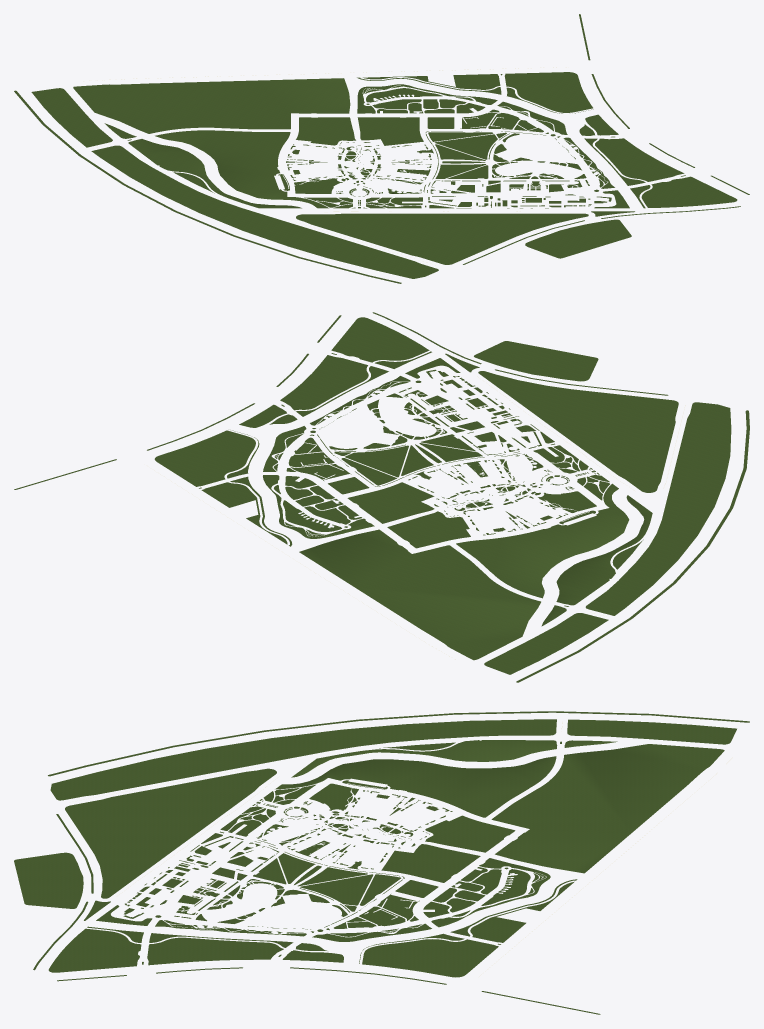
The picture shows the model from 3 angles, top to bottom: view 1: azimuth 30°, elevation 25°; view 2: azimuth 150°, elevation 25°; view 3: azimuth 270°, elevation 25°; orthographic projection. The views are drawn at different scales.
Parts seen in each view (by area): view 1: 171; view 2: 171; view 3: 171.
Boxes of the visible parts, bbox=[...] form: 171: bbox=[14, 14, 749, 283]; 171: bbox=[14, 312, 749, 682]; 171: bbox=[14, 711, 749, 1014].
Bounding box in the file's own units: 1627 × 3.66 × 1668.
2 materials, 1 textured.
